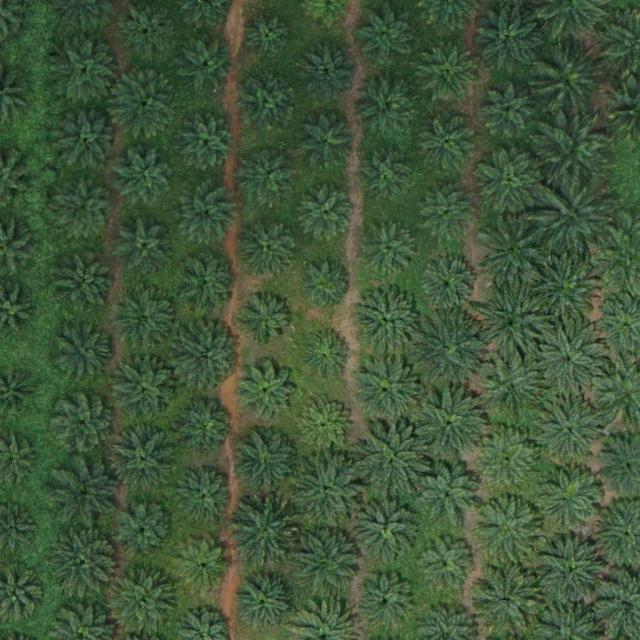Healthy: (540, 115, 611, 186), (540, 182, 611, 253), (52, 104, 123, 175), (51, 530, 122, 601), (172, 321, 243, 392), (351, 285, 422, 356), (416, 316, 487, 387), (531, 43, 601, 114), (174, 177, 244, 248), (110, 355, 180, 426), (107, 566, 177, 637), (233, 428, 303, 499), (228, 498, 298, 569), (232, 566, 302, 637), (294, 456, 364, 527), (292, 526, 362, 597), (357, 424, 427, 495), (353, 568, 423, 639), (475, 497, 545, 568), (470, 565, 540, 636), (534, 397, 604, 468), (537, 537, 607, 608), (476, 147, 546, 217), (480, 218, 550, 288), (112, 68, 182, 138), (53, 34, 123, 104), (51, 455, 121, 525), (109, 422, 179, 492), (352, 358, 422, 428), (354, 495, 424, 565), (415, 390, 485, 460), (477, 290, 547, 360), (478, 354, 548, 424), (528, 254, 598, 324), (534, 328, 604, 398), (237, 216, 300, 279), (114, 146, 177, 209), (54, 175, 117, 238), (57, 319, 120, 382), (52, 390, 115, 453), (415, 463, 478, 526), (475, 429, 538, 492), (477, 5, 539, 68), (416, 42, 478, 105), (418, 110, 480, 173), (354, 6, 417, 68), (356, 76, 418, 139), (296, 40, 358, 103), (296, 110, 358, 173), (237, 146, 299, 209), (175, 114, 237, 177), (54, 252, 117, 314), (113, 497, 175, 560), (174, 395, 236, 458), (234, 362, 297, 424), (538, 467, 600, 530), (115, 287, 177, 349), (174, 467, 236, 529), (362, 222, 417, 278), (419, 186, 474, 241), (423, 259, 478, 314), (358, 149, 413, 204), (179, 37, 234, 92), (117, 221, 172, 276), (239, 294, 294, 349), (298, 258, 353, 313), (298, 399, 353, 454), (482, 83, 536, 138), (300, 185, 354, 240), (241, 74, 295, 129), (180, 256, 234, 311), (177, 539, 231, 594), (421, 538, 475, 593), (248, 12, 295, 59)
Small: (300, 328, 355, 383)
